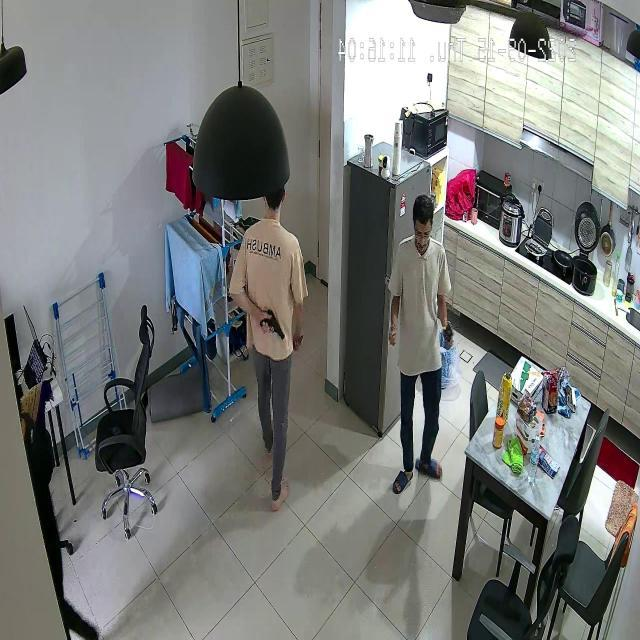Gun: (248, 298, 288, 342)
